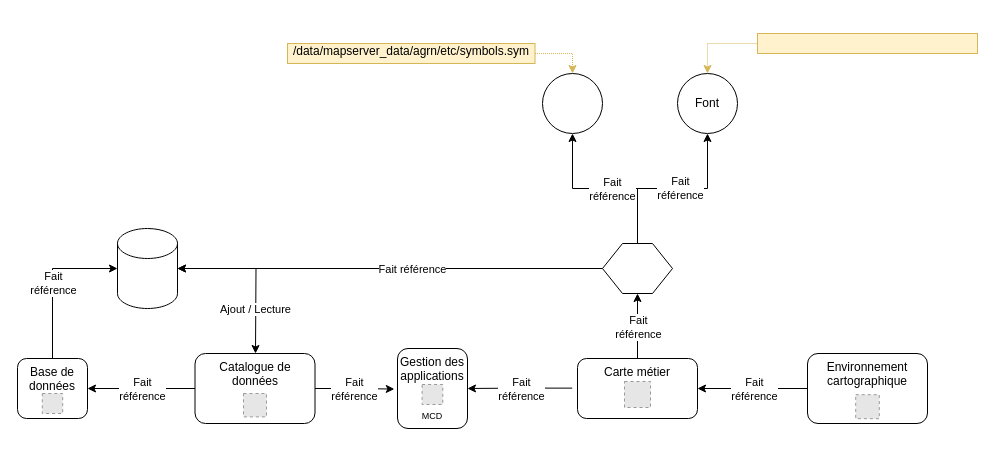
The diagram is 995 pixels wide and 454 high, and some of its shapes have lost their labels. Grey dashed boxes stand in for pictures. The centre of each missing label's shape, as x and y in pixels:
"/data/mapserver_data/agrn/etc/fonts.txt" goes at (x=867, y=43).
"BDD ATD" goes at (x=147, y=268).
"MAPFILE" goes at (x=637, y=268).
"Symbole" goes at (x=572, y=103).
